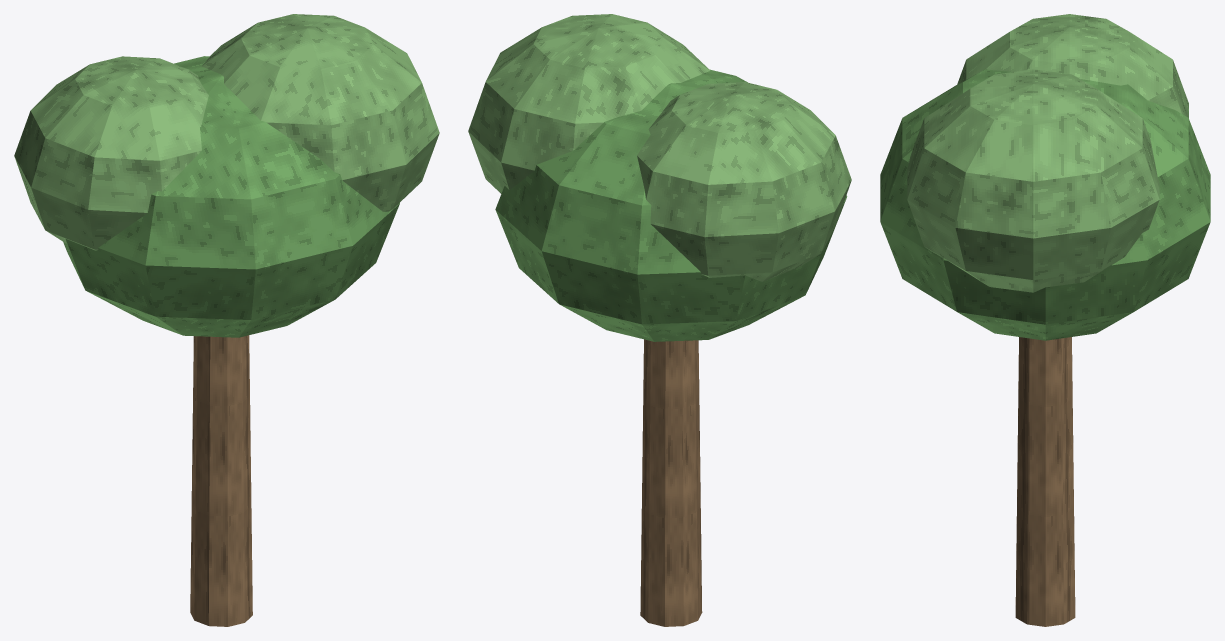
Rendered from treeSmall.glb.
3 views of the same model, side by side, from view 1: azimuth 30°, elevation 25°; view 2: azimuth 150°, elevation 25°; view 3: azimuth 270°, elevation 25° (orthographic).
Visible parts, largest first — view 1: treeSmall; view 2: treeSmall; view 3: treeSmall.
Boxes of the visible parts, left/top/right/bottom form: treeSmall: left=14, top=14, right=439, bottom=626; treeSmall: left=468, top=14, right=851, bottom=626; treeSmall: left=880, top=14, right=1210, bottom=626.
Size of the model in its own units: 1.78 by 2.6 by 1.37.
Materials: 3 (3 with a texture image).
